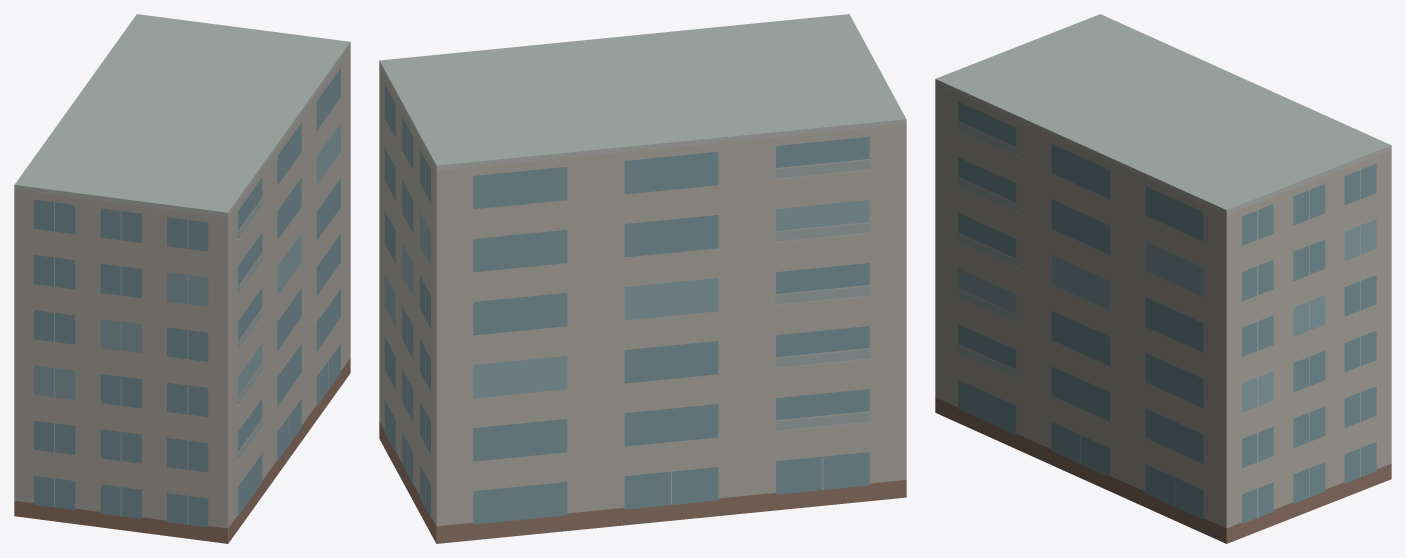
Rendered from survey-upis-32840472.glb.
The picture shows the model from 3 angles, left to right: view 1: azimuth 30°, elevation 25°; view 2: azimuth 150°, elevation 25°; view 3: azimuth 270°, elevation 25°; orthographic projection. The views are drawn at different scales.
Visible parts, largest first — view 1: survey-upis-32840472.tmp; view 2: survey-upis-32840472.tmp; view 3: survey-upis-32840472.tmp.
Boxes of the visible parts, x1,y1,x2,y2 form: survey-upis-32840472.tmp: [14, 14, 350, 543]; survey-upis-32840472.tmp: [379, 14, 906, 543]; survey-upis-32840472.tmp: [935, 14, 1391, 543].
Bounding box in the file's own units: 21.93 × 17.4 × 21.57.
